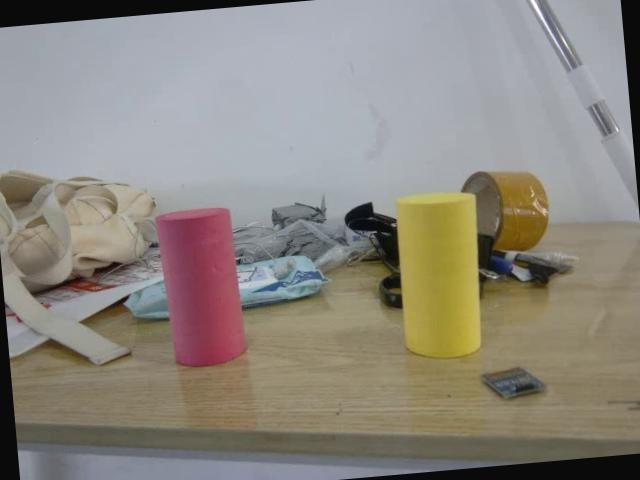red_cylinder: (154, 201, 252, 371)
yellow_cylinder: (391, 189, 488, 362)
